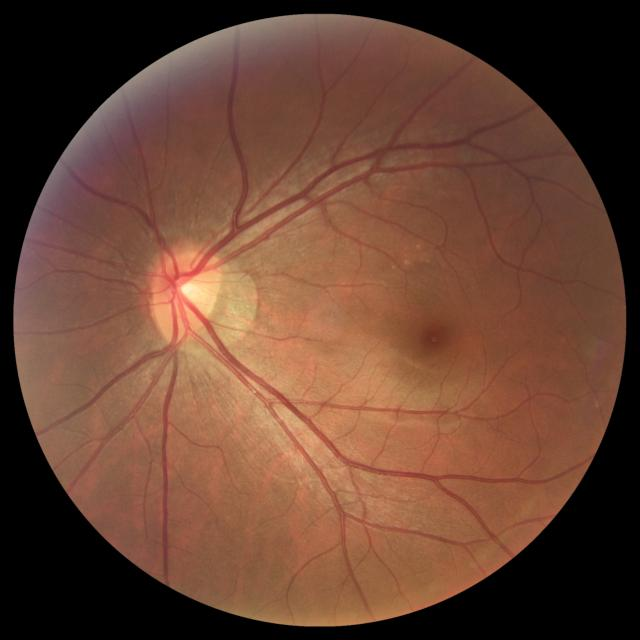OC: (170, 275, 200, 304)
OD: (150, 247, 223, 339)
